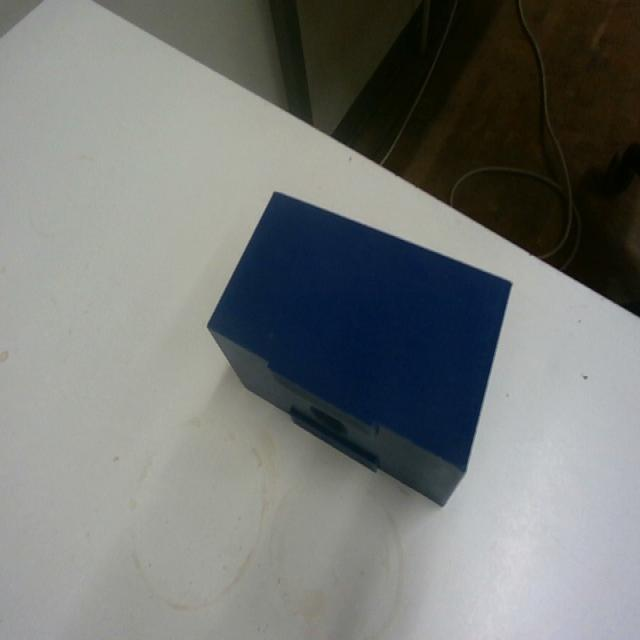Blue Cuboid: (205, 187, 513, 508)
